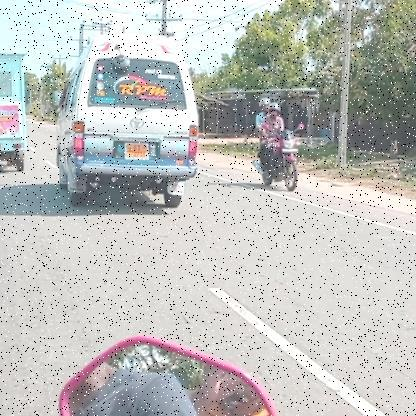motorcycle: (250, 129, 301, 194)
